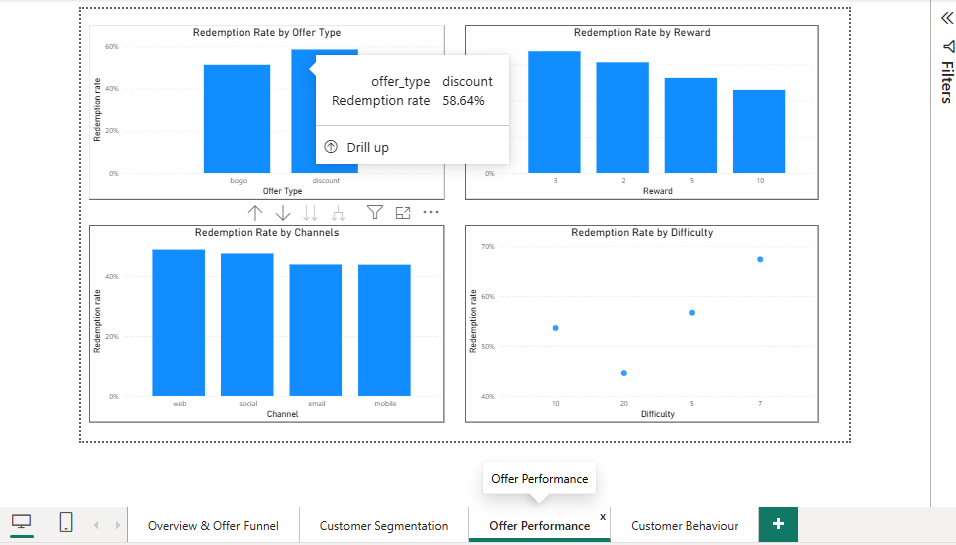

This screenshot's page, from the dashboard's own definition file:
{"tool":"powerbi","page":{"name":"Offer Performance","canvas":[1280,720],"ordinal":2},"visuals":[{"type":"clusteredColumnChart","title":"Redemption Rate by Offer Type","fields":{"Category":["events.event","offers.offer_type"],"Y":["events.Redemption rate"]},"box":[14,26.8,591.6,290.7],"z":0},{"type":"clusteredColumnChart","title":"Redemption Rate by Reward","fields":{"Y":["events.Redemption rate"],"Category":["offers.reward"]},"box":[640,26.8,589,290.7],"z":1000},{"type":"clusteredColumnChart","title":"Redemption Rate by Channels","fields":{"Y":["events.Redemption rate"],"Category":["offers_channels.channels"]},"box":[14,359.5,591.6,328.9],"z":2000},{"type":"scatterChart","title":"Redemption Rate by Difficulty","fields":{"X":["offers.difficulty"],"Y":["events.Redemption rate"]},"box":[640,359.5,589,328.9],"z":3000}]}

Visuals, with their boxes on the page's 1280x720 design canvas (x1, y1, x2, y2). These are canvas units, not pixel positions in the 956x545 screenshot, which may show the page scaled, cropped or inside an application window:
"Redemption Rate by Offer Type" clusteredColumnChart: 14:27:606:318
"Redemption Rate by Reward" clusteredColumnChart: 640:27:1229:318
"Redemption Rate by Channels" clusteredColumnChart: 14:360:606:688
"Redemption Rate by Difficulty" scatterChart: 640:360:1229:688
